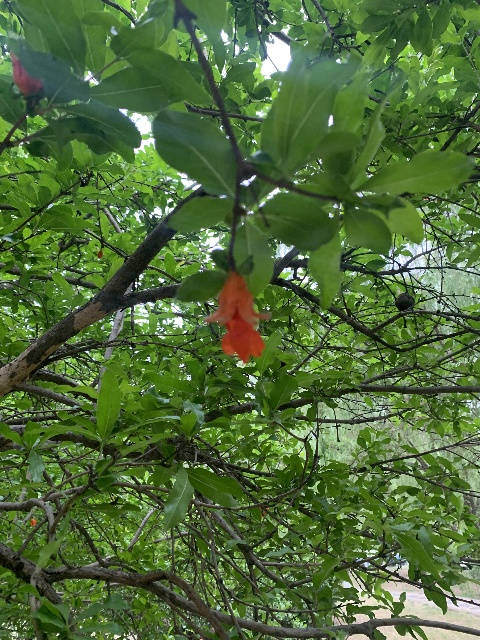bud: (97, 250, 102, 258)
flower: (204, 271, 269, 364), (10, 50, 42, 96), (30, 519, 36, 526)
